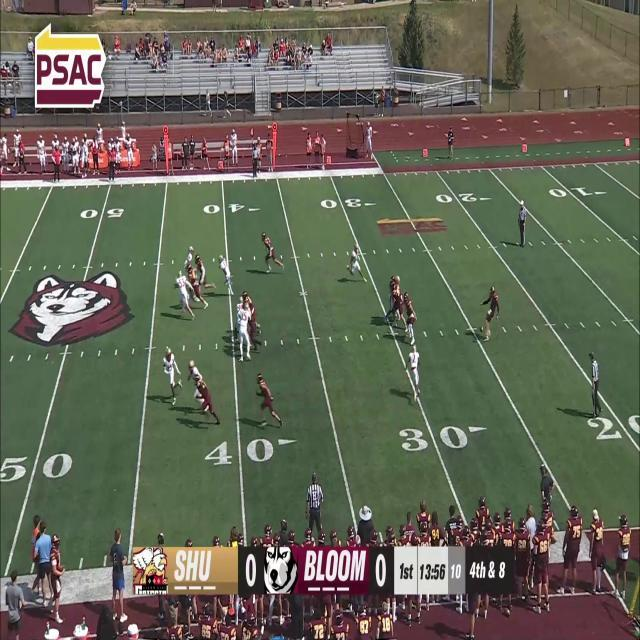football: (479, 326, 485, 332)
